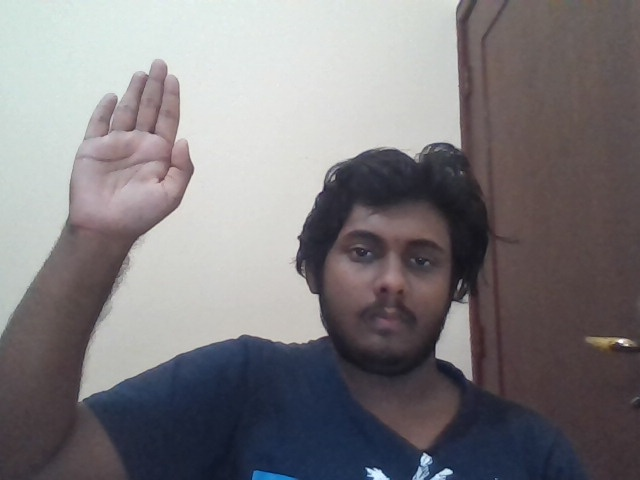hello: (69, 58, 195, 233)
